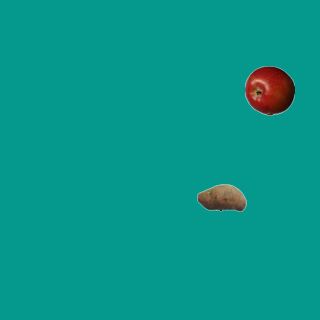Apple Braeburn: (244, 65, 294, 115)
Potato Sweet: (196, 172, 246, 222)
